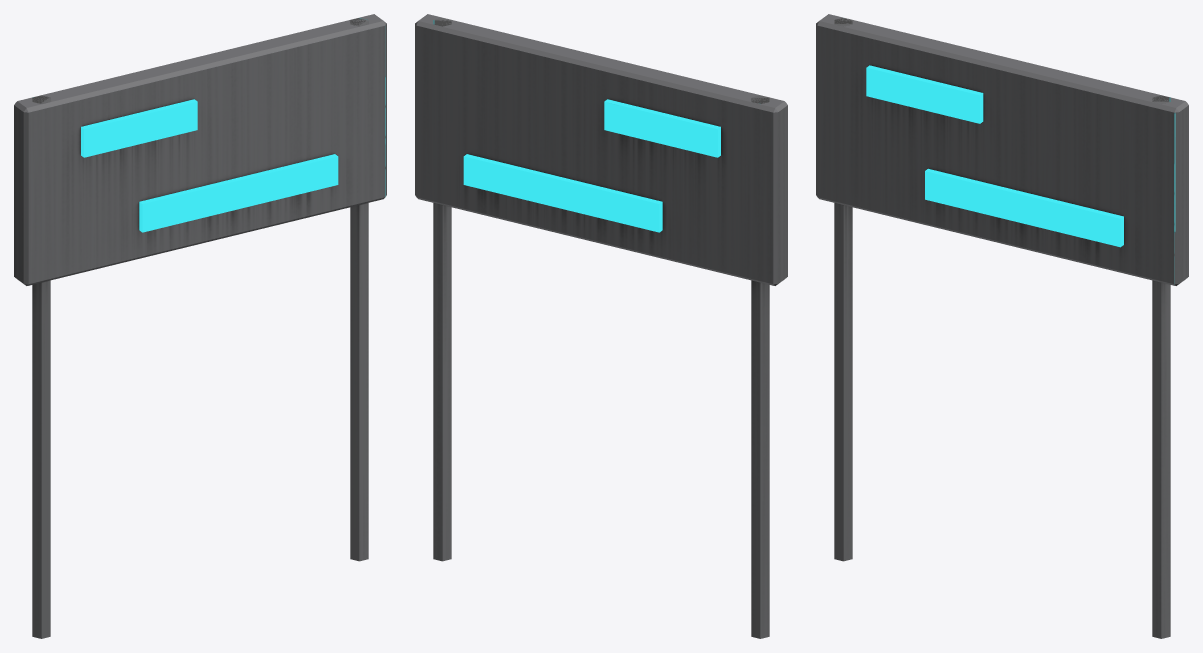
The model's file is nodexeus-set-sign-a.glb.
The picture shows the model from 3 angles, left to right: view 1: azimuth 30°, elevation 25°; view 2: azimuth 150°, elevation 25°; view 3: azimuth 330°, elevation 25°; orthographic projection.
Visible parts, largest first — view 1: set-sign-a; view 2: set-sign-a; view 3: set-sign-a.
Boxes of the visible parts, bbox=[...] form: set-sign-a: bbox=[14, 14, 386, 638]; set-sign-a: bbox=[415, 14, 787, 638]; set-sign-a: bbox=[816, 14, 1188, 638].
Size of the model in its own units: 1.6 by 2.25 by 0.15.
Materials: 1 (1 with a texture image).
